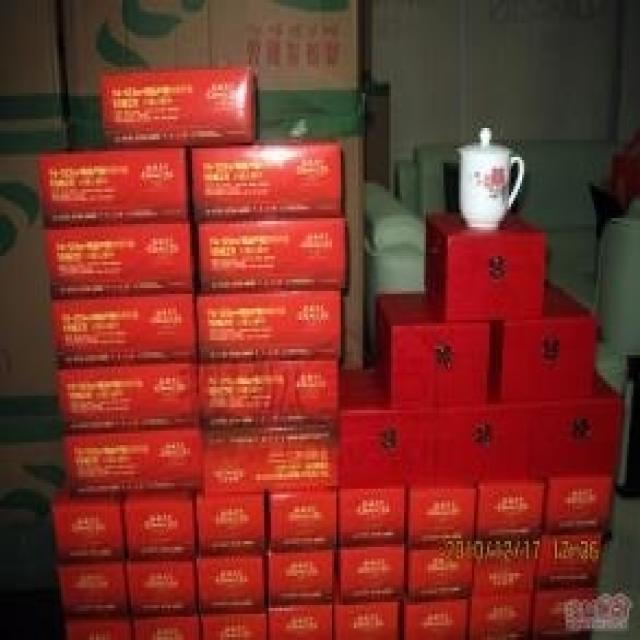box: (258, 114, 363, 365), (59, 1, 211, 151), (211, 0, 360, 119), (1, 148, 58, 422), (2, 418, 66, 637), (425, 209, 549, 321), (373, 292, 489, 409), (99, 69, 258, 150), (186, 139, 342, 221), (487, 280, 595, 398), (36, 147, 191, 229), (44, 221, 196, 300), (340, 366, 437, 488), (195, 217, 350, 292), (50, 290, 199, 366), (531, 364, 622, 478), (55, 362, 199, 434), (195, 290, 343, 359), (63, 424, 204, 495), (0, 1, 66, 152), (202, 423, 336, 492), (199, 359, 337, 424), (438, 387, 535, 479), (51, 476, 125, 559), (121, 491, 195, 557), (266, 487, 340, 551), (195, 491, 267, 556), (123, 555, 198, 616), (406, 481, 479, 543), (55, 558, 127, 620), (475, 480, 546, 541), (335, 544, 406, 603), (337, 486, 407, 545), (405, 540, 476, 598), (470, 538, 541, 595), (196, 555, 268, 611), (542, 480, 614, 535), (267, 551, 334, 607), (535, 538, 602, 594), (398, 596, 470, 637), (466, 596, 534, 637), (533, 596, 594, 636), (269, 603, 335, 637), (335, 603, 398, 636), (195, 607, 269, 633), (129, 612, 199, 637), (65, 615, 133, 636)
